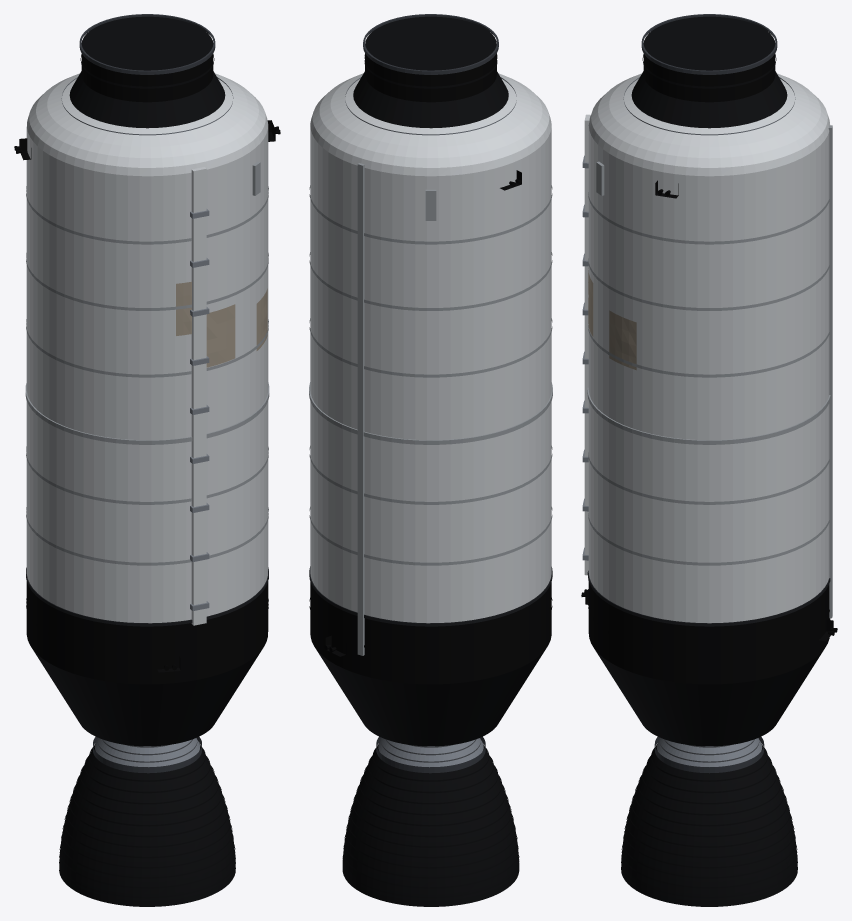
The model's file is falcon9-stage2.obj.
The picture shows the model from 3 angles, left to right: view 1: azimuth 30°, elevation 25°; view 2: azimuth 150°, elevation 25°; view 3: azimuth 270°, elevation 25°; orthographic projection.
Bounding box in the file's own units: 3.88 × 13.83 × 3.88.
